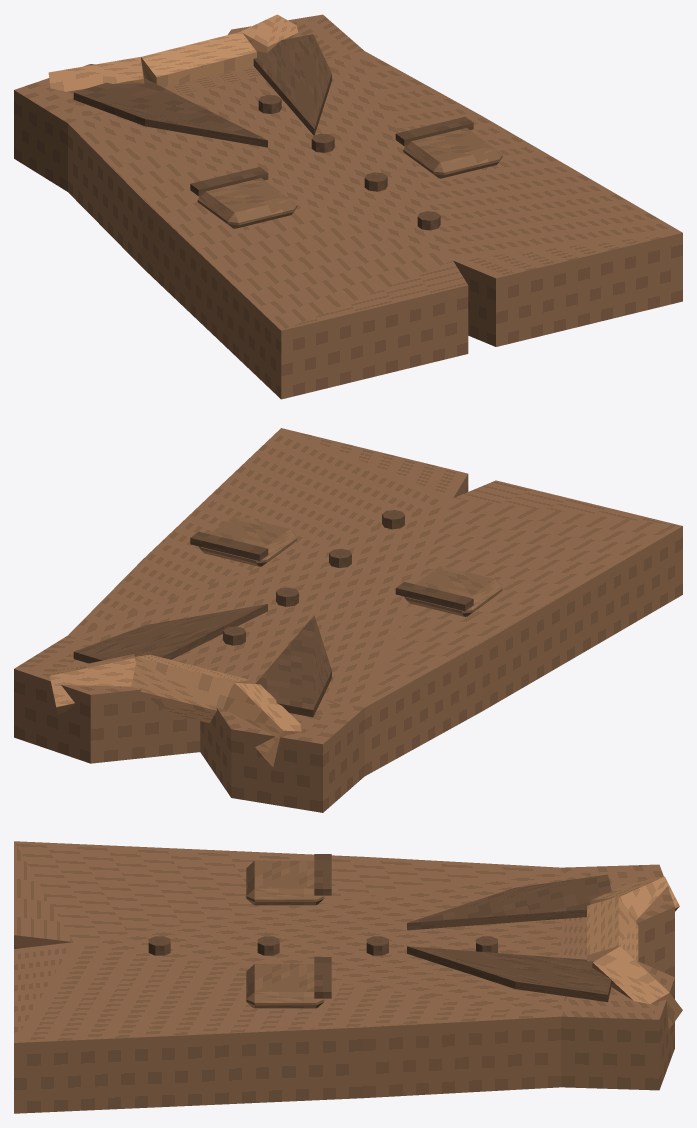
The model's file is sleeveless_trenchcoat_faux_fur.glb.
3 renders of one model, top to bottom at view 1: azimuth 30°, elevation 25°; view 2: azimuth 150°, elevation 25°; view 3: azimuth 270°, elevation 25°, orthographic. The views are drawn at different scales.
Visible parts, largest first — view 1: block_coat body, block_lapel (×2), block_patch pocket (×2), block_thick fur collar 1, block_thick fur collar 0, block_pocket welt (×2), block_thick fur collar 2; view 2: block_coat body, block_lapel (×2), block_thick fur collar 1, block_patch pocket (×2), block_thick fur collar 0, block_thick fur collar 2, block_pocket welt (×2); view 3: block_coat body, block_lapel (×2), block_patch pocket (×2), block_thick fur collar 1, block_thick fur collar 2, block_thick fur collar 0, block_pocket welt (×2).
Part boxes in pixels (x1=…): block_coat body: x1=14, y1=14, x2=682, y2=399; block_lapel (×2): x1=73, y1=34, x2=331, y2=147; block_patch pocket (×2): x1=197, y1=128, x2=502, y2=228; block_thick fur collar 1: x1=141, y1=31, x2=256, y2=87; block_thick fur collar 0: x1=48, y1=57, x2=144, y2=91; block_pocket welt (×2): x1=190, y1=116, x2=473, y2=196; block_thick fur collar 2: x1=241, y1=14, x2=298, y2=52; block_coat body: x1=14, y1=428, x2=682, y2=812; block_lapel (×2): x1=73, y1=604, x2=331, y2=717; block_thick fur collar 1: x1=131, y1=654, x2=250, y2=723; block_patch pocket (×2): x1=199, y1=515, x2=502, y2=616; block_thick fur collar 0: x1=223, y1=683, x2=301, y2=767; block_thick fur collar 2: x1=49, y1=654, x2=135, y2=717; block_pocket welt (×2): x1=190, y1=531, x2=473, y2=611; block_coat body: x1=14, y1=841, x2=674, y2=1113; block_lapel (×2): x1=407, y1=874, x2=611, y2=1002; block_patch pocket (×2): x1=246, y1=860, x2=324, y2=1008; block_thick fur collar 1: x1=587, y1=896, x2=638, y2=961; block_thick fur collar 2: x1=592, y1=946, x2=682, y2=1029; block_thick fur collar 0: x1=590, y1=876, x2=679, y2=919; block_pocket welt (×2): x1=314, y1=854, x2=331, y2=998.
Bounding box in the file's own units: 0.6407 × 0.1386 × 0.8977.
1 material, 1 textured.
